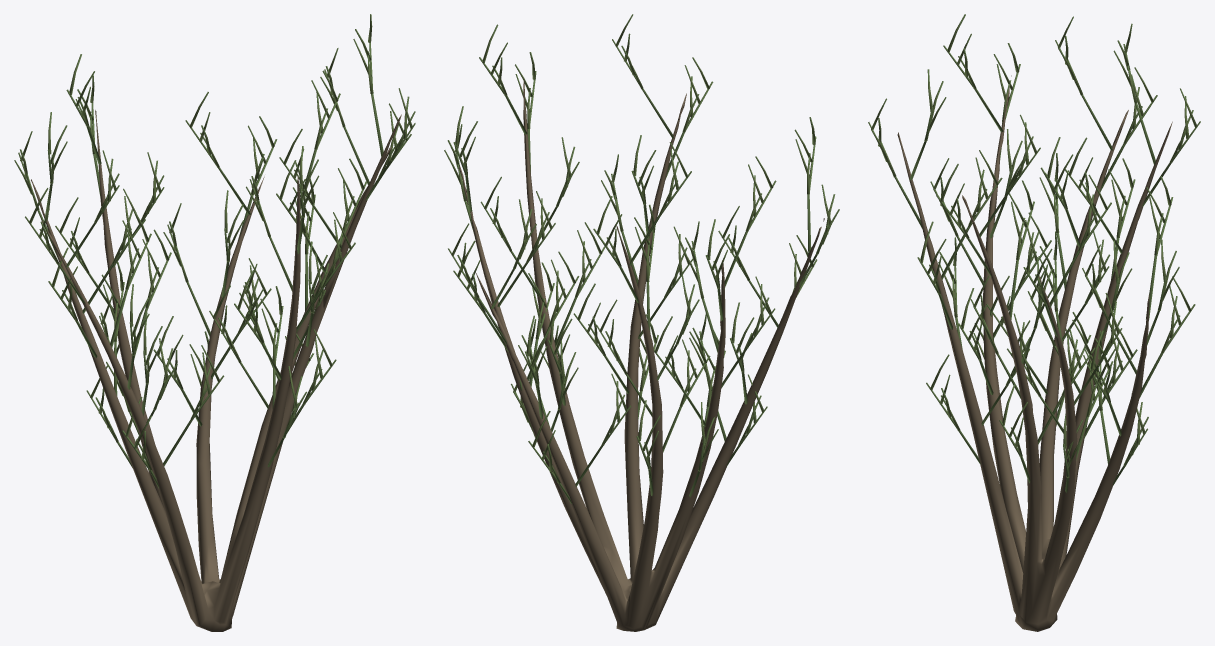
File: Bruyere_2_Niveau1.fbx
The picture shows the model from 3 angles, left to right: view 1: azimuth 30°, elevation 25°; view 2: azimuth 150°, elevation 25°; view 3: azimuth 270°, elevation 25°; orthographic projection. The views are drawn at different scales.
Visible parts, largest first — view 1: Bruyere_2_Niveau1_Jeu; view 2: Bruyere_2_Niveau1_Jeu; view 3: Bruyere_2_Niveau1_Jeu.
Part boxes in pixels (x1,y1,x2,y2): Bruyere_2_Niveau1_Jeu: (14, 14, 415, 631); Bruyere_2_Niveau1_Jeu: (444, 14, 839, 631); Bruyere_2_Niveau1_Jeu: (868, 14, 1200, 631).
Bounding box in the file's own units: 151 × 216 × 112.
